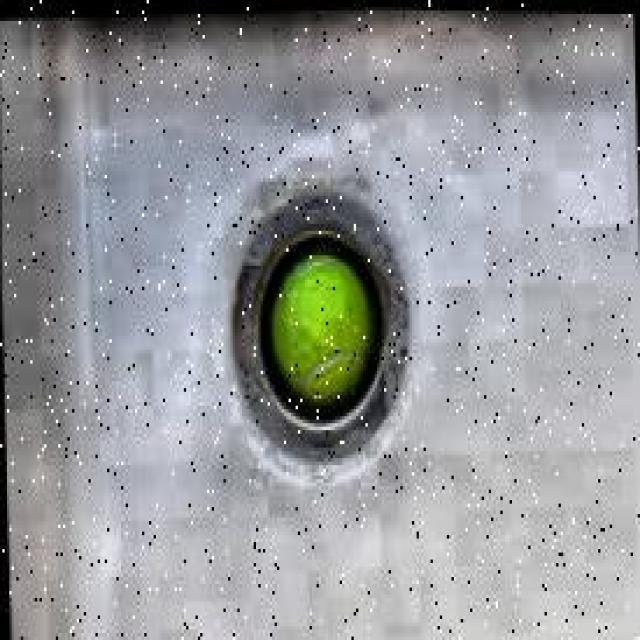tennis-ball: (269, 243, 376, 414)
